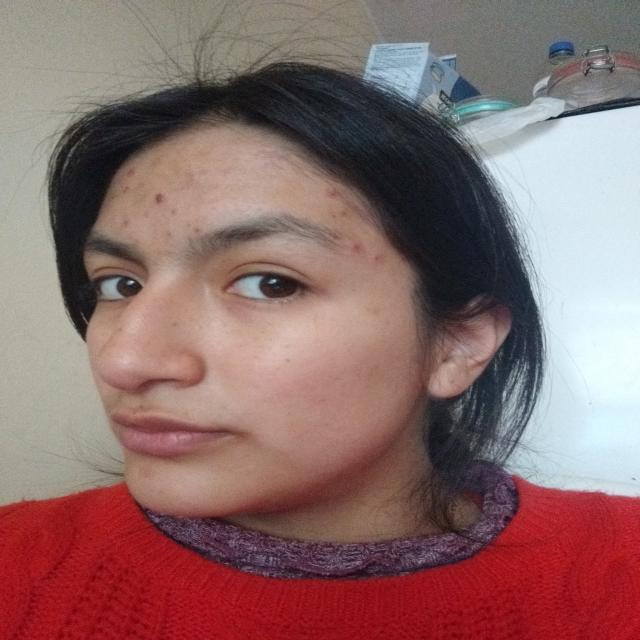Acne: (345, 235, 366, 250), (114, 219, 134, 232), (182, 221, 203, 233), (149, 193, 169, 205), (105, 194, 122, 206), (324, 208, 344, 218), (370, 254, 388, 265), (163, 228, 176, 242), (120, 186, 135, 198), (323, 186, 339, 197), (182, 168, 196, 180), (149, 160, 164, 170), (166, 207, 182, 216), (219, 169, 235, 178), (124, 168, 137, 176)
